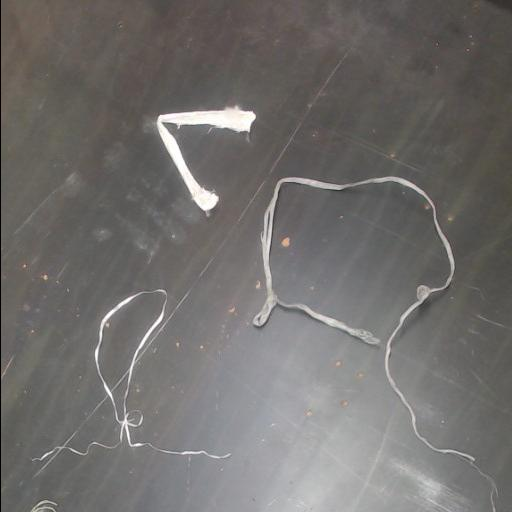conveyor belt: (1, 0, 512, 511), (273, 184, 447, 339), (101, 292, 165, 387)
thread: (252, 176, 497, 511), (39, 288, 230, 459), (156, 105, 255, 215)
